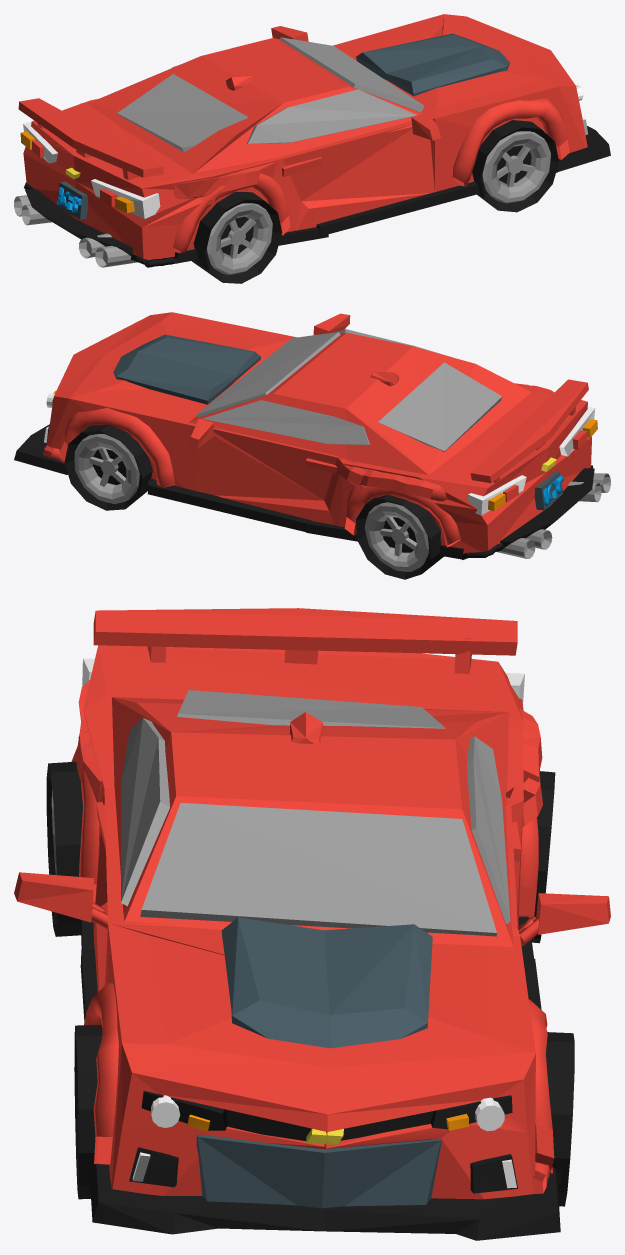
File: car.dae
3 renders of one model, top to bottom at view 1: azimuth 30°, elevation 25°; view 2: azimuth 150°, elevation 25°; view 3: azimuth 270°, elevation 25°, orthographic. The views are drawn at different scales.
Parts seen in each view (by area): view 1: car; view 2: car; view 3: car.
Part boxes in pixels (x1,y1,x2,y2): car: (14,14,610,283); car: (14,312,610,579); car: (14,608,610,1240).
Bounding box in the file's own units: 0.7716 × 0.2138 × 0.4121.
